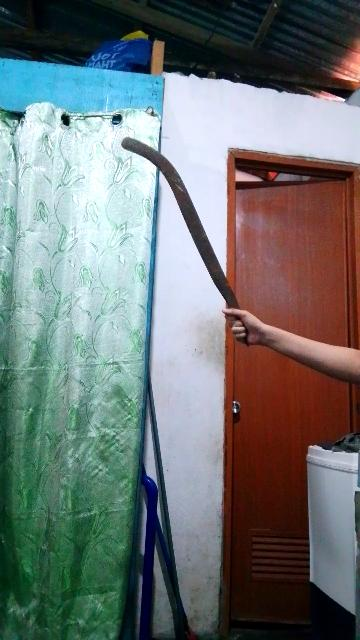long knife: (86, 115, 264, 352)
